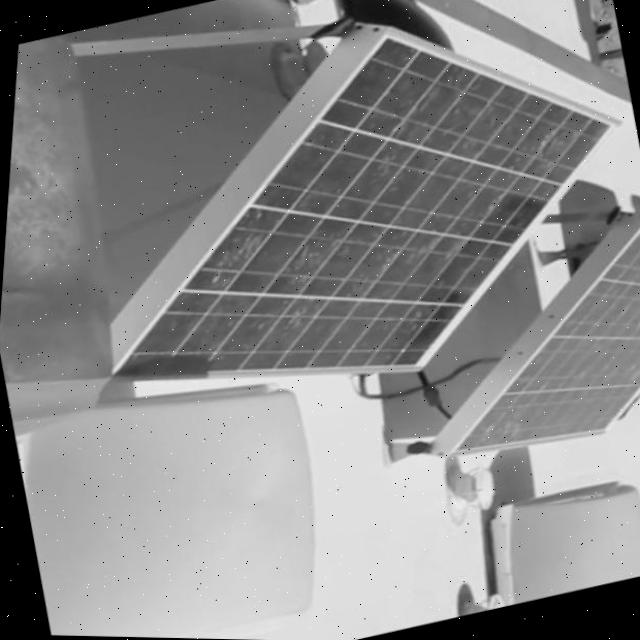Normal Solar Panel: (38, 0, 640, 448), (398, 216, 640, 477)
